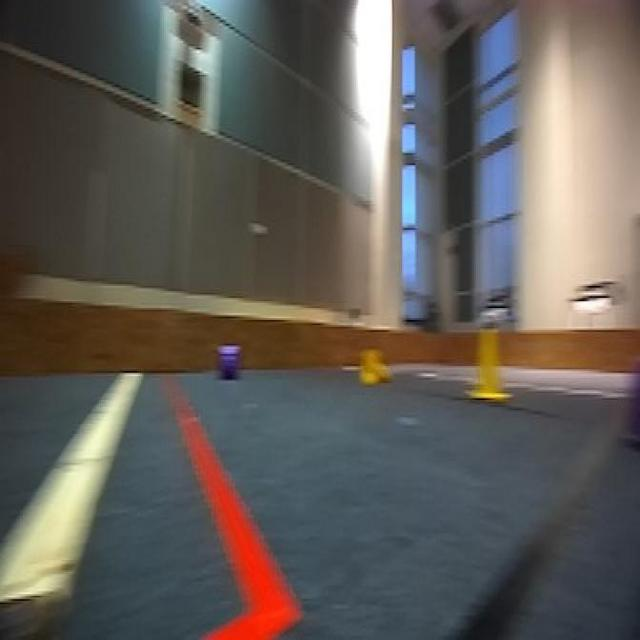frc_cone: (466, 320, 512, 402), (355, 344, 395, 388)
frc_cube: (219, 344, 240, 381)
